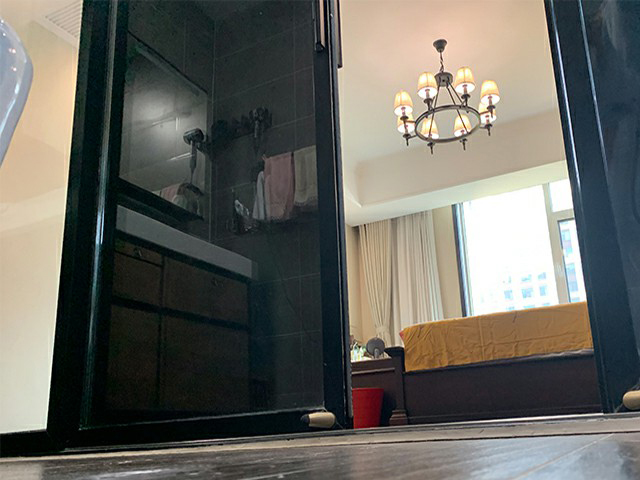bed: (383, 302, 604, 425)
trashcan: (350, 387, 384, 430)
